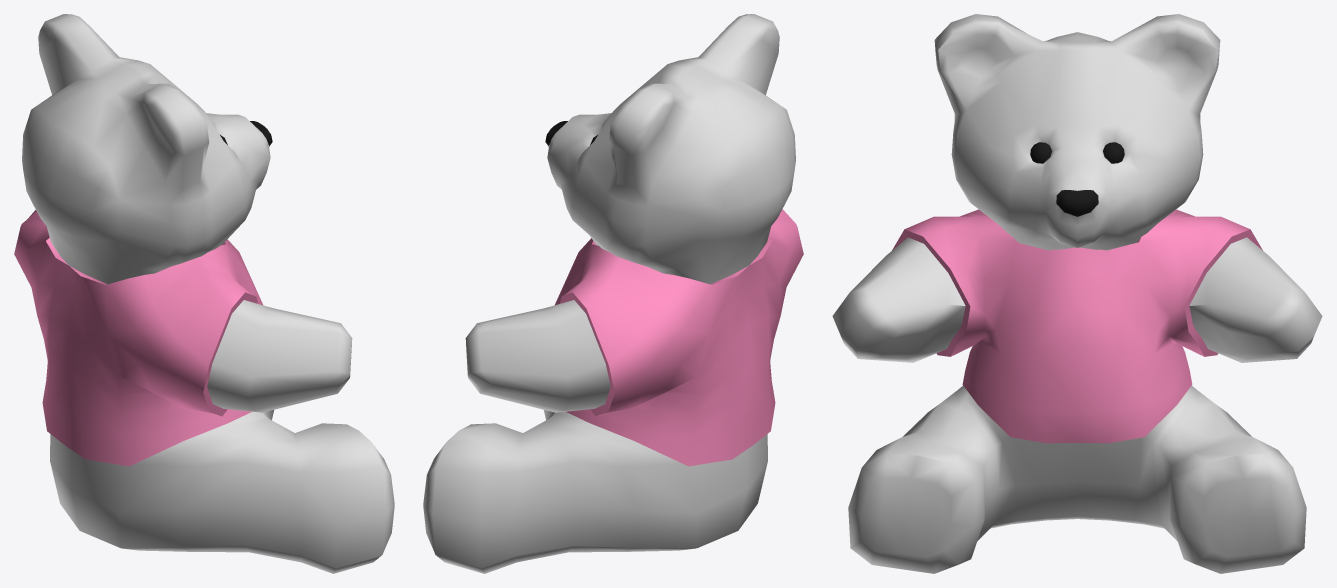
The model's file is BearSmall.fbx.
3 renders of one model, left to right at view 1: azimuth 30°, elevation 25°; view 2: azimuth 150°, elevation 25°; view 3: azimuth 270°, elevation 25°, orthographic.
Visible parts, largest first — view 1: BearSmall; view 2: BearSmall; view 3: BearSmall.
Boxes of the visible parts, <box> form: BearSmall: <box>14,14,394,573</box>; BearSmall: <box>423,14,803,573</box>; BearSmall: <box>832,14,1322,573</box>.
Size of the model in its own units: 13.33 by 24.37 by 22.45.
